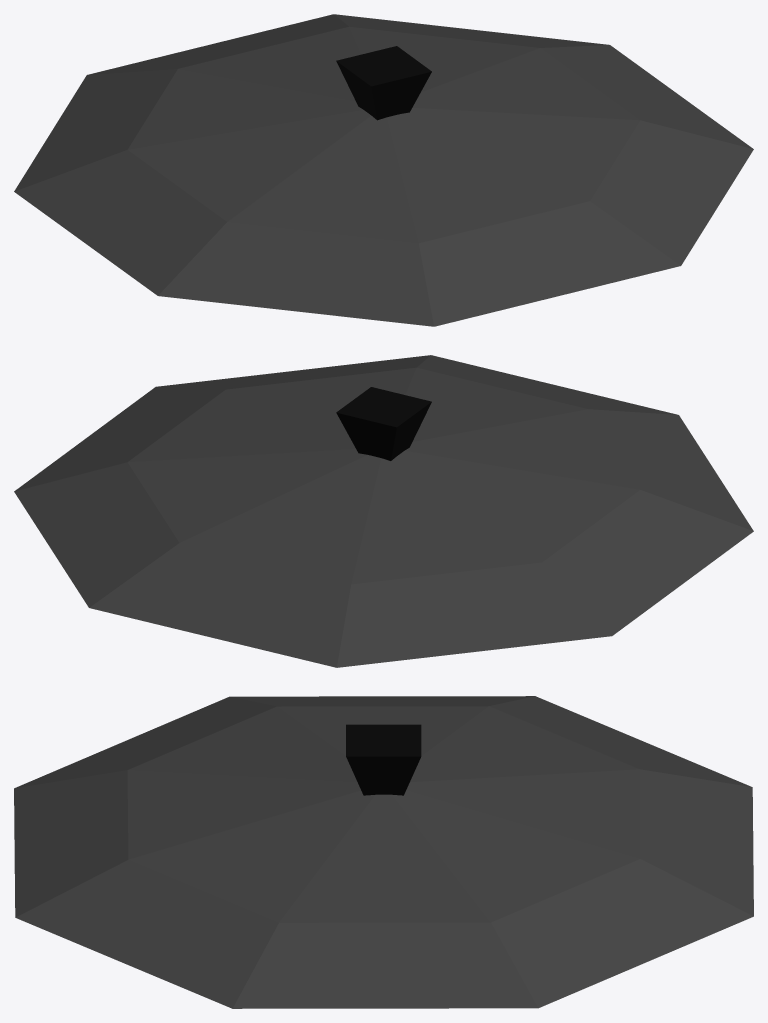
The model's file is Cover_for_cauldron_2.fbx.
3 views of the same model, one above another, from view 1: azimuth 30°, elevation 25°; view 2: azimuth 150°, elevation 25°; view 3: azimuth 270°, elevation 25° (orthographic). The views are drawn at different scales.
Visible parts, largest first — view 1: cover_for_cauldron; view 2: cover_for_cauldron; view 3: cover_for_cauldron.
Boxes of the visible parts, x1,y1,x2,y2 form: cover_for_cauldron: [14, 14, 753, 326]; cover_for_cauldron: [14, 355, 753, 667]; cover_for_cauldron: [14, 696, 753, 1008].
Bounding box in the file's own units: 31.71 × 5.29 × 31.71.
